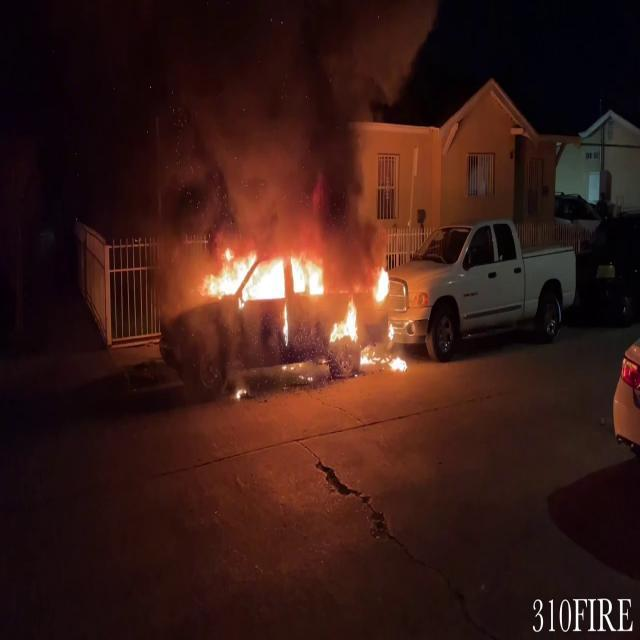Fire: (320, 248, 408, 376), (198, 238, 326, 305)
Smoke: (160, 0, 372, 233)
